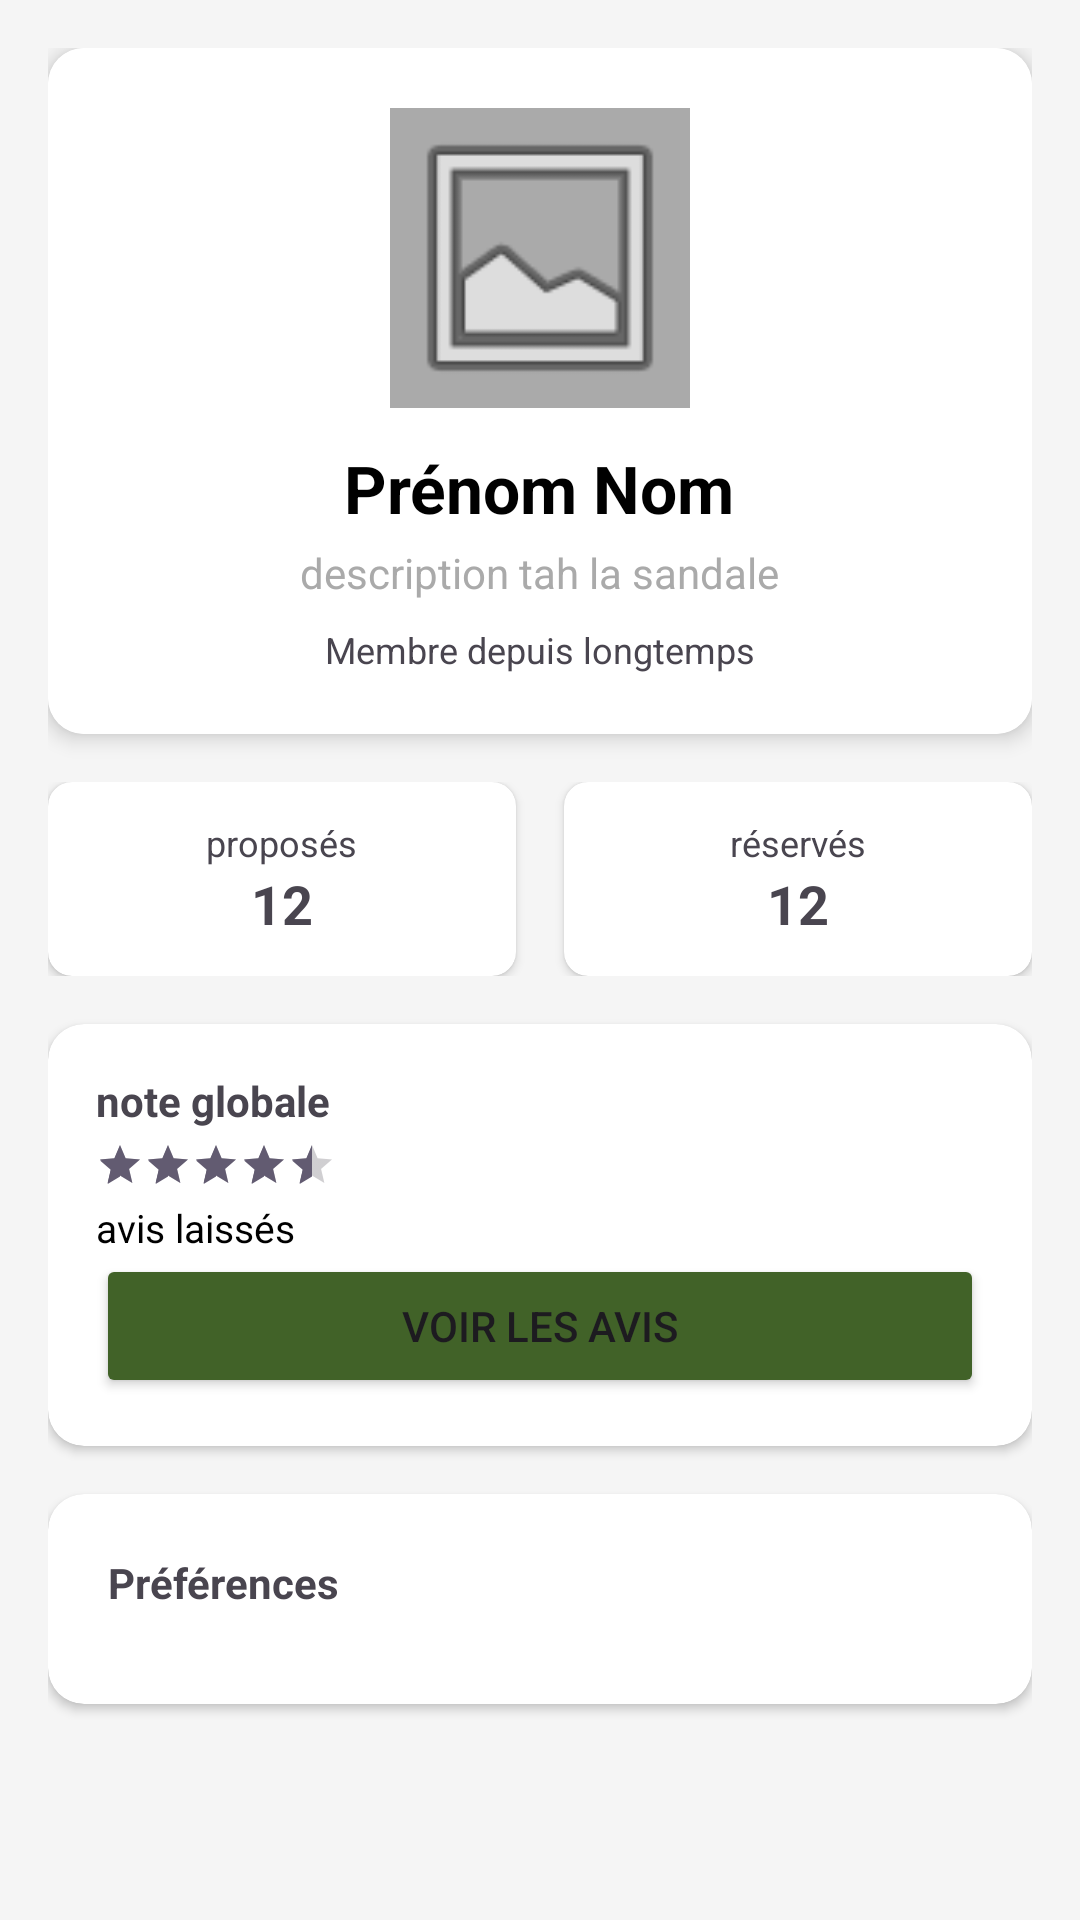

Named icons in this screenshot (1080*1920) and their centers, point (x, y):
gallery: point (540, 258)
